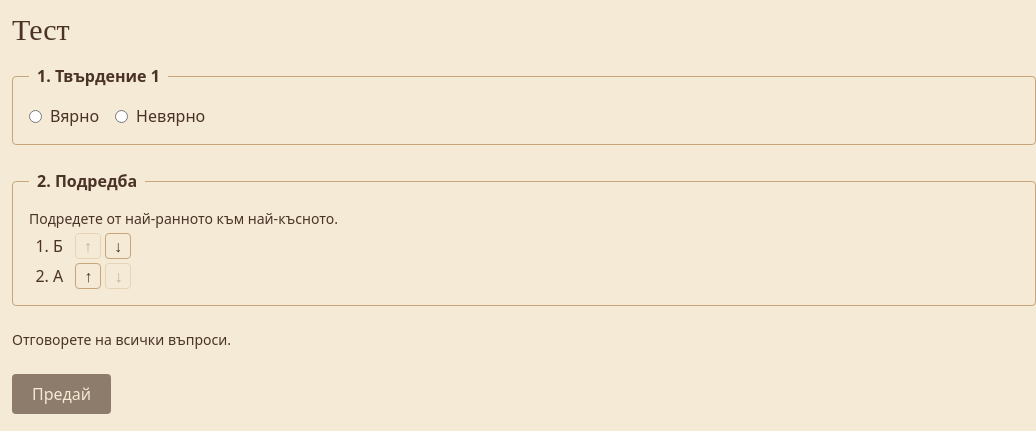
Test: quiz submits answers and shows the failed score only
expect the button "Предай" is disabled: met, box [12,374,111,414]
Click the radio button labelled "Вярно". click: (36, 116)
box: [29,110,42,122]
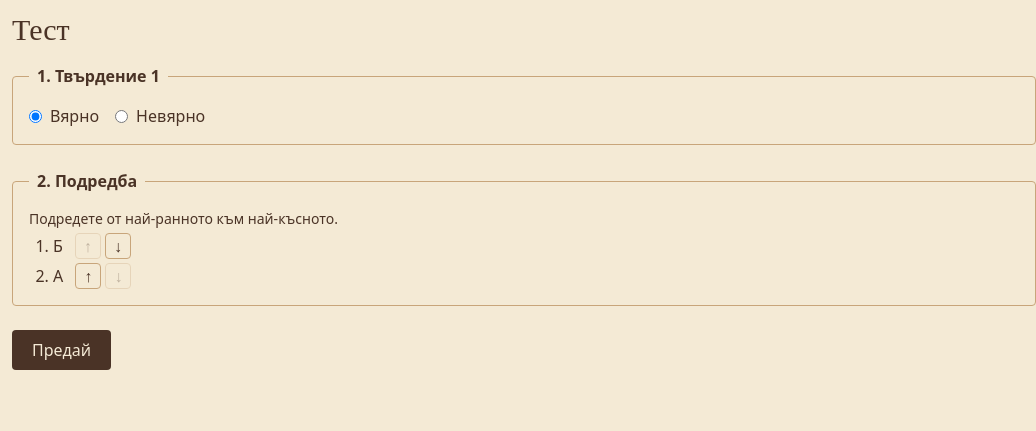
Click the button named "Надолу: Б". click: (118, 246)
box: [105,233,131,259]
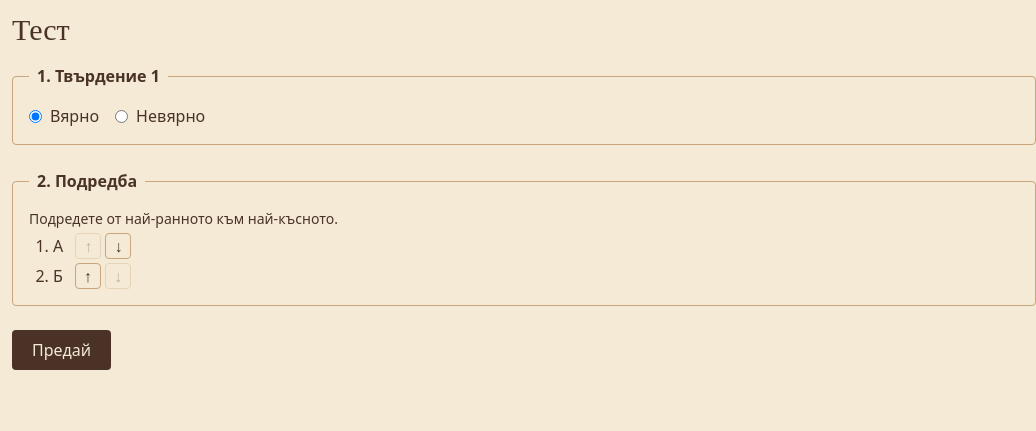
Click the button "Предай". click: (62, 350)
box: [12,330,111,370]
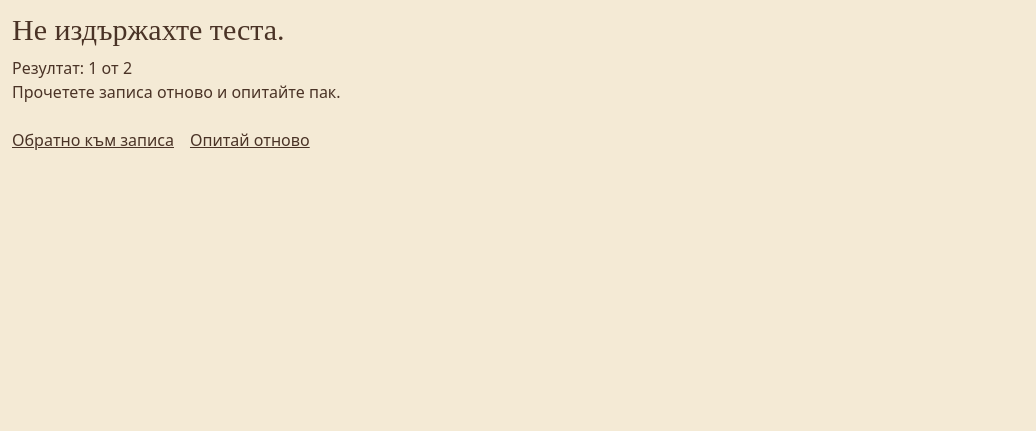
expect the heading "Не издържахте теста." is shown: met, box [12,13,285,46]
